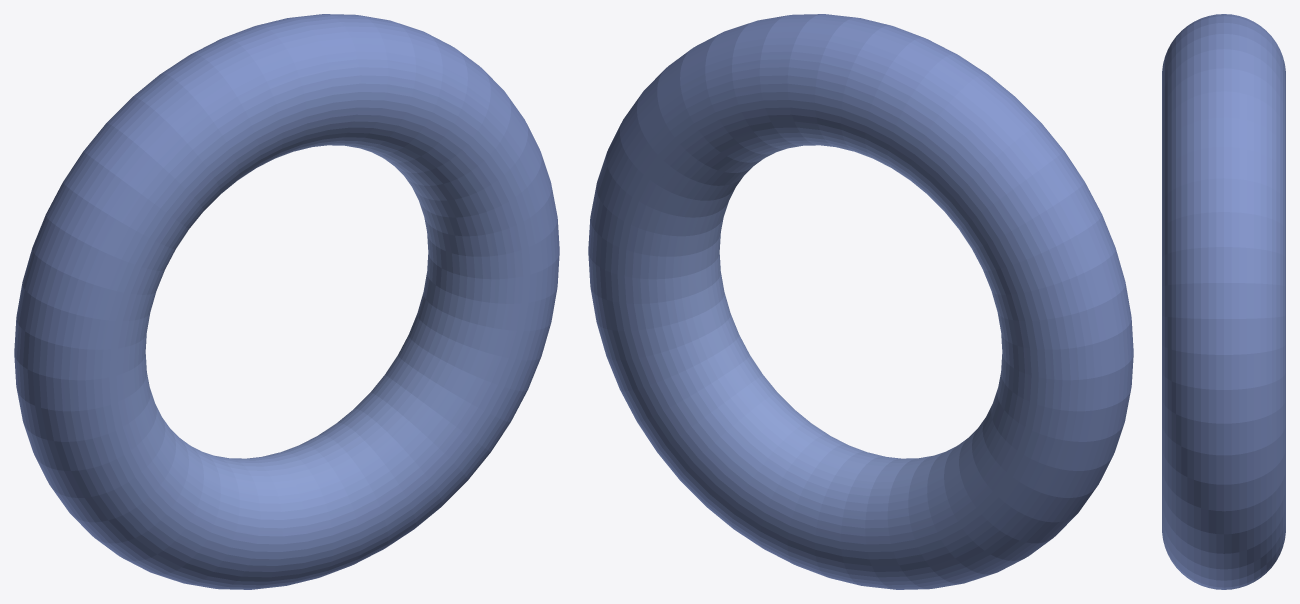
3 views of the same model, side by side, from view 1: azimuth 30°, elevation 25°; view 2: azimuth 150°, elevation 25°; view 3: azimuth 270°, elevation 25° (orthographic). The views are drawn at different scales.
Parts seen in each view (by area): view 1: world; view 2: world; view 3: world.
Part boxes in pixels (x1,y1,x2,y2): world: [14, 14, 559, 589]; world: [588, 14, 1133, 589]; world: [1162, 14, 1285, 589].
Bounding box in the file's own units: 20.4 × 20.36 × 4.39.
